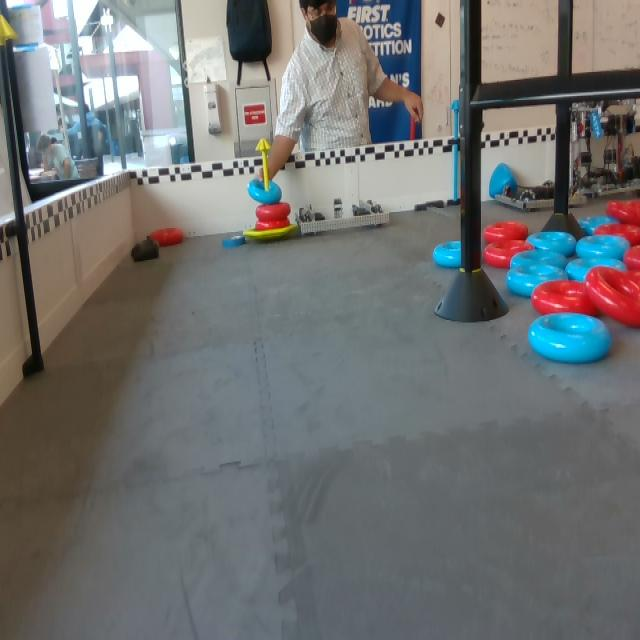Blue-Ring: (530, 312, 611, 365), (507, 264, 568, 296), (567, 258, 628, 284), (574, 234, 630, 260), (527, 231, 577, 257), (512, 248, 567, 270), (247, 179, 283, 206), (577, 217, 623, 236), (433, 241, 462, 268), (221, 235, 248, 248)
Mobile-Goal: (243, 136, 301, 243)
Red-Ring: (587, 266, 639, 328), (532, 282, 599, 314), (484, 239, 532, 269), (481, 220, 529, 243), (598, 224, 639, 245), (148, 226, 184, 247), (608, 200, 639, 224), (255, 202, 291, 222), (256, 217, 291, 230), (623, 244, 639, 268), (624, 268, 639, 287)
Yellow-Stake-Head: (0, 15, 17, 41), (256, 139, 272, 152)
zblue-Stake-Head: (451, 99, 458, 110)
